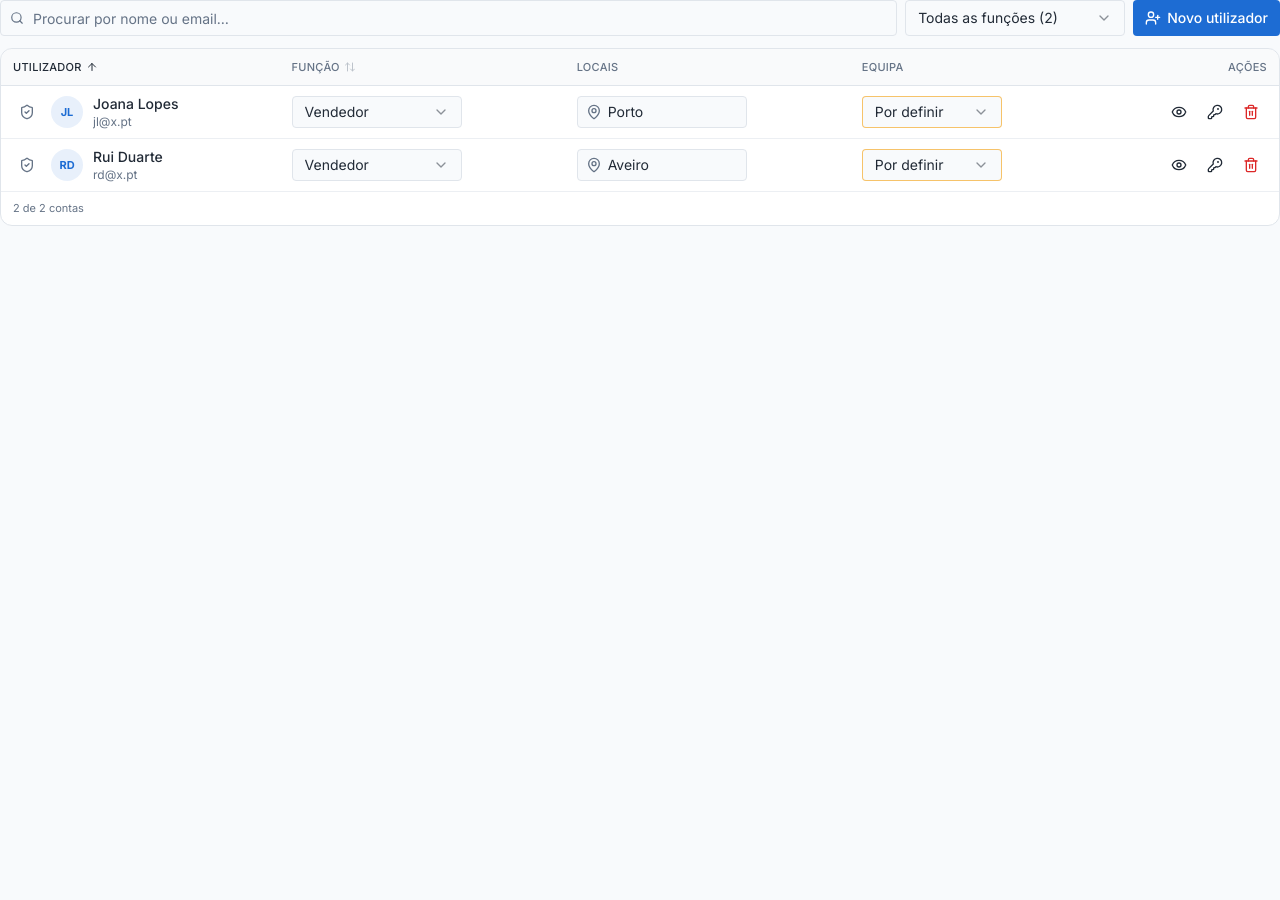
Scenario: Contas: o que cada conta pode fazer › em Aveiro segue a matriz completa
Click the button named "Ver os acessos de Rui Duarte".
click(27, 165)  # box [13, 151, 41, 179]
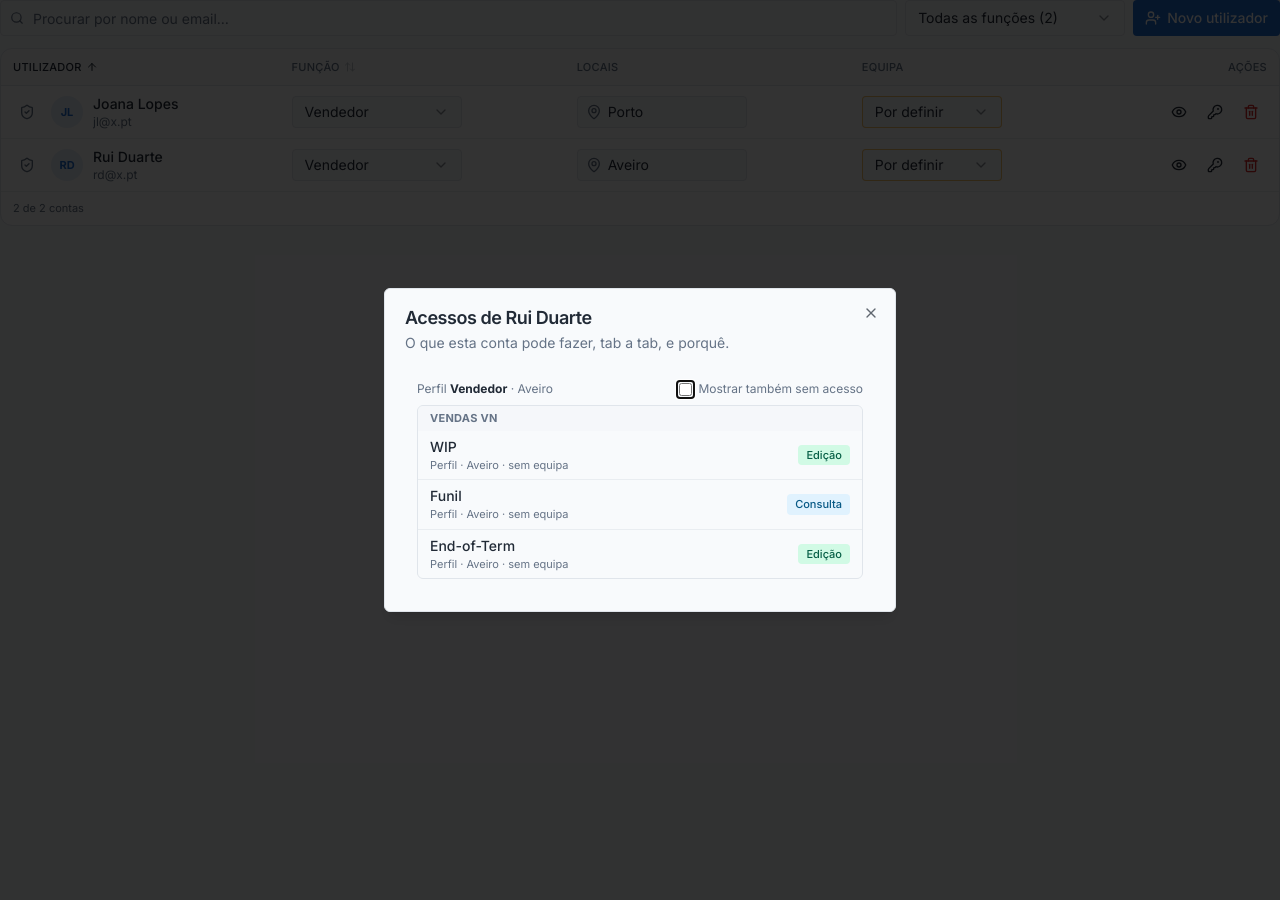
Result: the text "Edição" in the row of "WIP" is shown at [806, 448, 842, 462]
Result: the text "Consulta" is shown at [787, 494, 850, 514]
Result: the text "Perfil · Aveiro · sem equipa" below "WIP" is shown at [430, 458, 568, 472]
